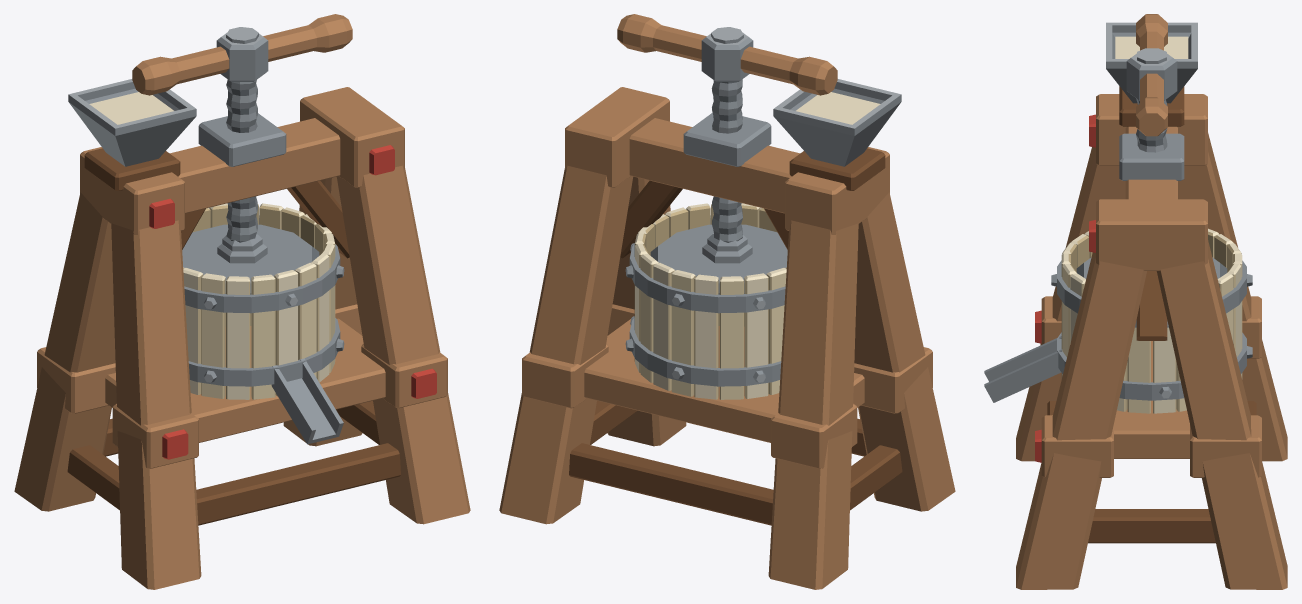
Rendered from FMS_Workshop_STA_10.fbx.
3 views of the same model, side by side, from view 1: azimuth 30°, elevation 25°; view 2: azimuth 150°, elevation 25°; view 3: azimuth 270°, elevation 25° (orthographic).
Parts seen in each view (by area): view 1: FMS_Workshop_STA_10_Frame, FMS_Workshop_STA_10_Chamber, FMS_Workshop_STA_10_Screw, FMS_Workshop_STA_10_Plate; view 2: FMS_Workshop_STA_10_Frame, FMS_Workshop_STA_10_Chamber, FMS_Workshop_STA_10_Screw, FMS_Workshop_STA_10_Plate; view 3: FMS_Workshop_STA_10_Frame, FMS_Workshop_STA_10_Chamber, FMS_Workshop_STA_10_Screw.
Boxes of the visible parts, left/top/right/bottom form: FMS_Workshop_STA_10_Frame: left=14, top=79, right=470, bottom=589; FMS_Workshop_STA_10_Chamber: left=183, top=203, right=344, bottom=444; FMS_Workshop_STA_10_Screw: left=132, top=14, right=352, bottom=242; FMS_Workshop_STA_10_Plate: left=182, top=224, right=319, bottom=294; FMS_Workshop_STA_10_Frame: left=499, top=79, right=955, bottom=589; FMS_Workshop_STA_10_Chamber: left=625, top=203, right=786, bottom=399; FMS_Workshop_STA_10_Screw: left=617, top=14, right=837, bottom=242; FMS_Workshop_STA_10_Plate: left=650, top=224, right=787, bottom=294; FMS_Workshop_STA_10_Frame: left=1016, top=22, right=1287, bottom=589; FMS_Workshop_STA_10_Chamber: left=984, top=228, right=1252, bottom=413; FMS_Workshop_STA_10_Screw: left=1126, top=14, right=1177, bottom=152.
Size of what is drawn, in the model's own units: 1.01 by 1.4 by 0.8405.
1 material, 1 textured.
